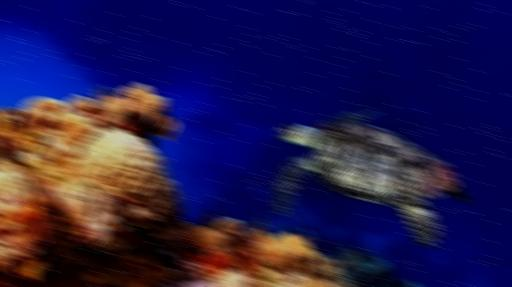Fish: (273, 110, 469, 247)
